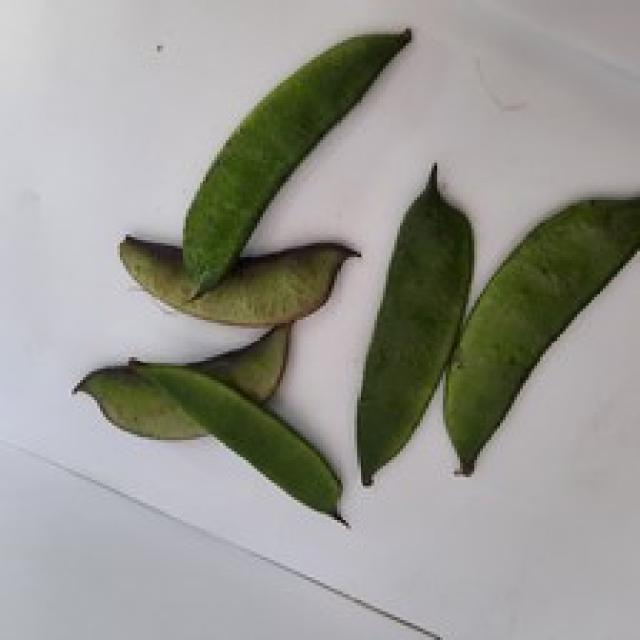Bean: (177, 23, 412, 300), (440, 189, 637, 474), (124, 346, 346, 532), (354, 160, 474, 486), (86, 321, 306, 458), (117, 231, 360, 326)
